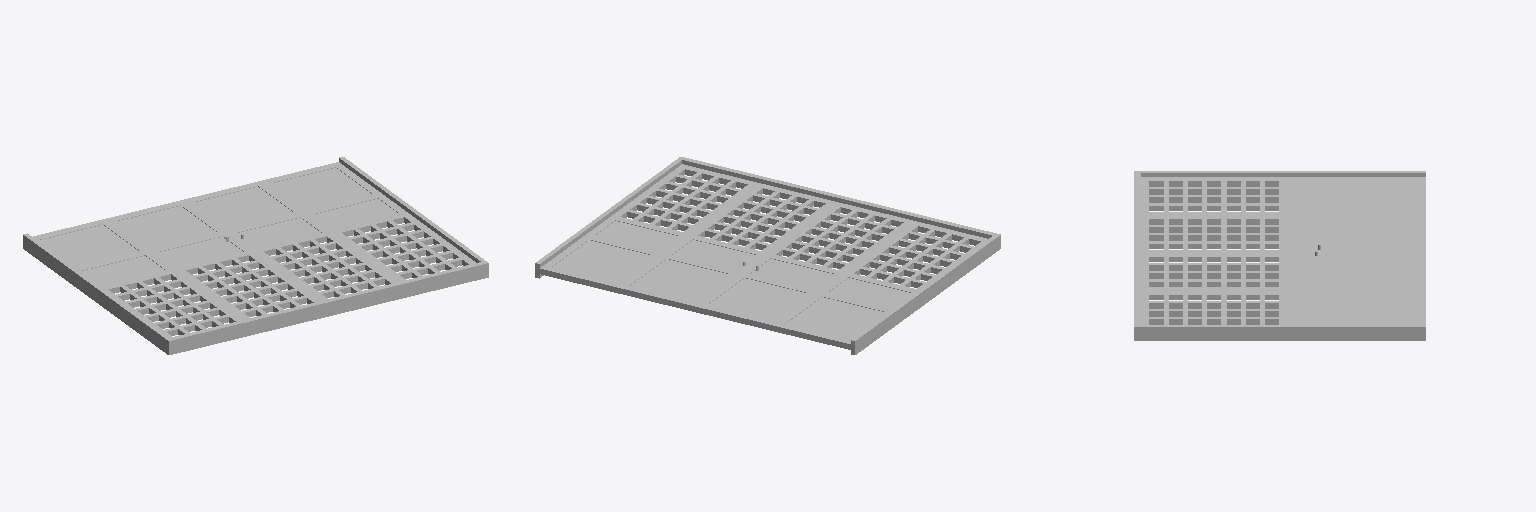
The model's file is Door 3.obj.
3 renders of one model, left to right at view 1: azimuth 30°, elevation 25°; view 2: azimuth 150°, elevation 25°; view 3: azimuth 270°, elevation 25°, orthographic.
Bounding box in the file's own units: 3500 × 150 × 2760.